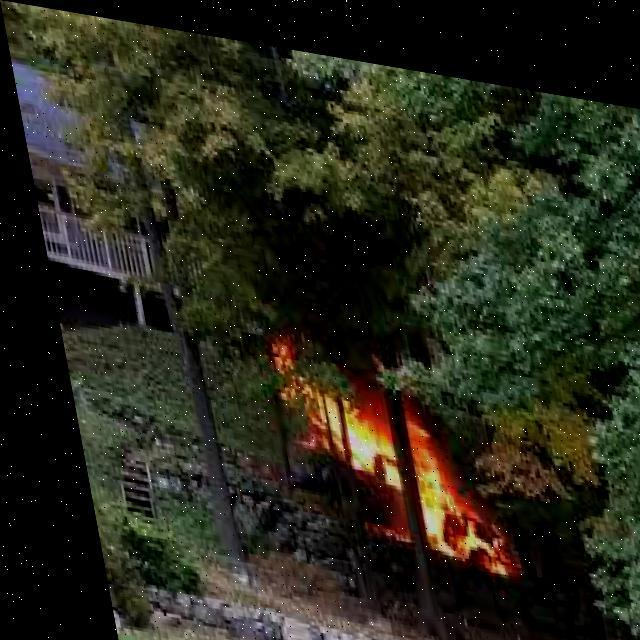Fire: (245, 314, 512, 584)
